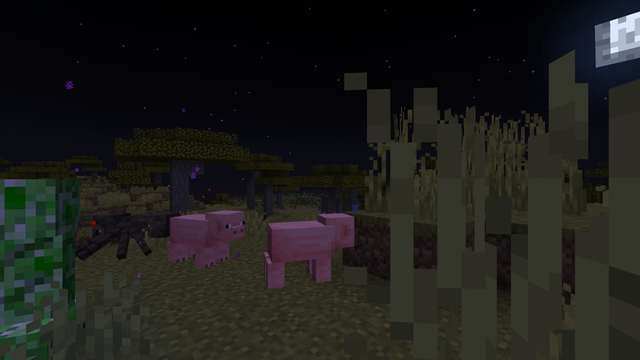araignees: (91, 206, 171, 261)
cochons: (262, 217, 337, 293), (171, 211, 231, 270)
creepers: (2, 170, 79, 358)
